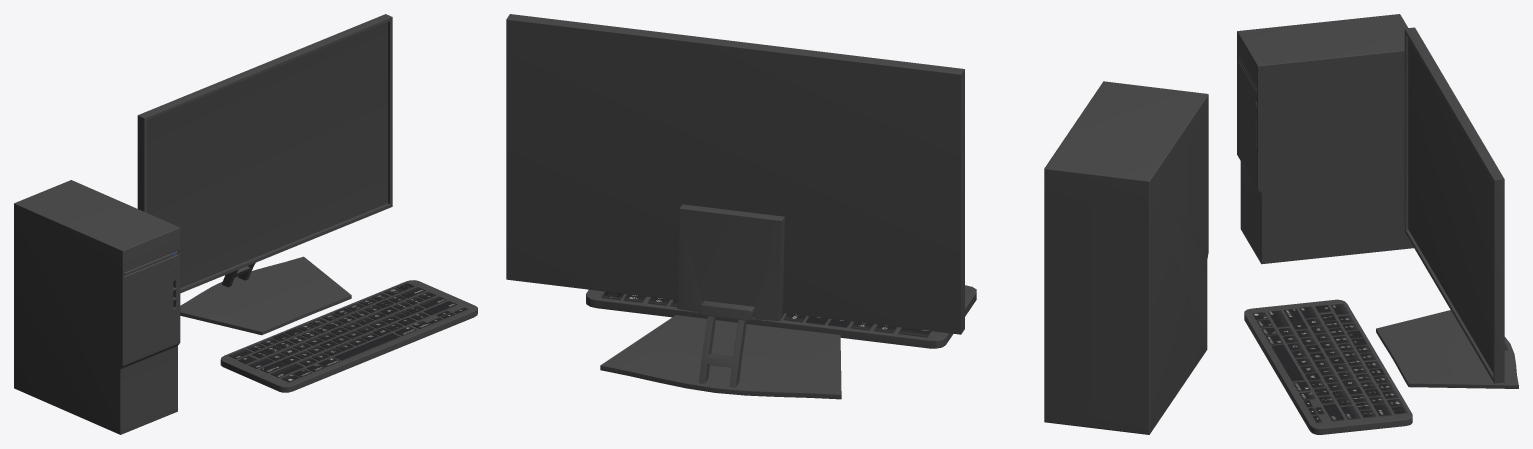
The model's file is desktop.glb.
3 renders of one model, left to right at view 1: azimuth 30°, elevation 25°; view 2: azimuth 150°, elevation 25°; view 3: azimuth 270°, elevation 25°, orthographic. The views are drawn at different scales.
Visible parts, largest first — view 1: Plane, Cube.001, Plane.001; view 2: Plane, Cube.001, Plane.001; view 3: Cube.001, Plane, Plane.001.
Part boxes in pixels (x1=…): Plane: x1=137, y1=14, x2=392, y2=335; Cube.001: x1=14, y1=180, x2=180, y2=434; Plane.001: x1=220, y1=280, x2=477, y2=392; Plane: x1=506, y1=14, x2=964, y2=399; Cube.001: x1=1044, y1=81, x2=1208, y2=434; Plane.001: x1=586, y1=285, x2=976, y2=348; Cube.001: x1=1237, y1=14, x2=1413, y2=264; Plane: x1=1376, y1=27, x2=1518, y2=388; Plane.001: x1=1244, y1=299, x2=1412, y2=434.
Bounding box in the file's own units: 3.82 × 2.03 × 2.04.
Materials: 4 (1 with a texture image).
